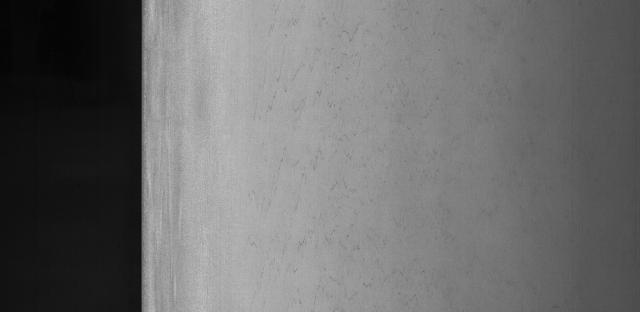silk_spot: (246, 17, 401, 277)
